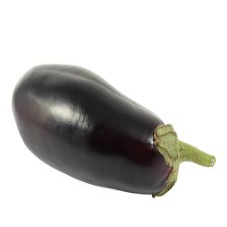eggplant: (11, 64, 179, 202)
